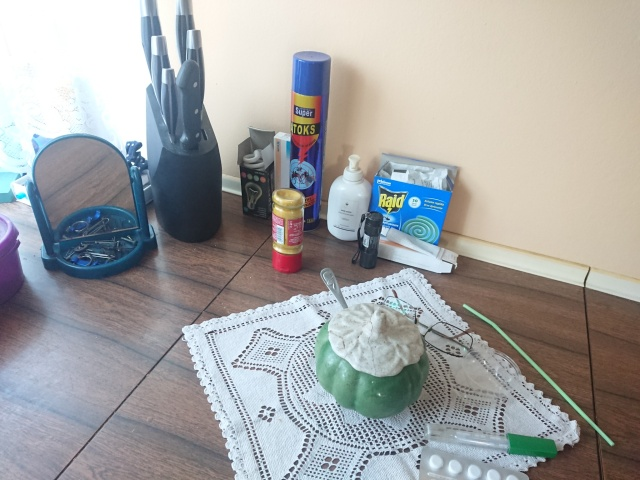Kotanyi Curry Spices Mix 70g: (268, 186, 308, 276)
